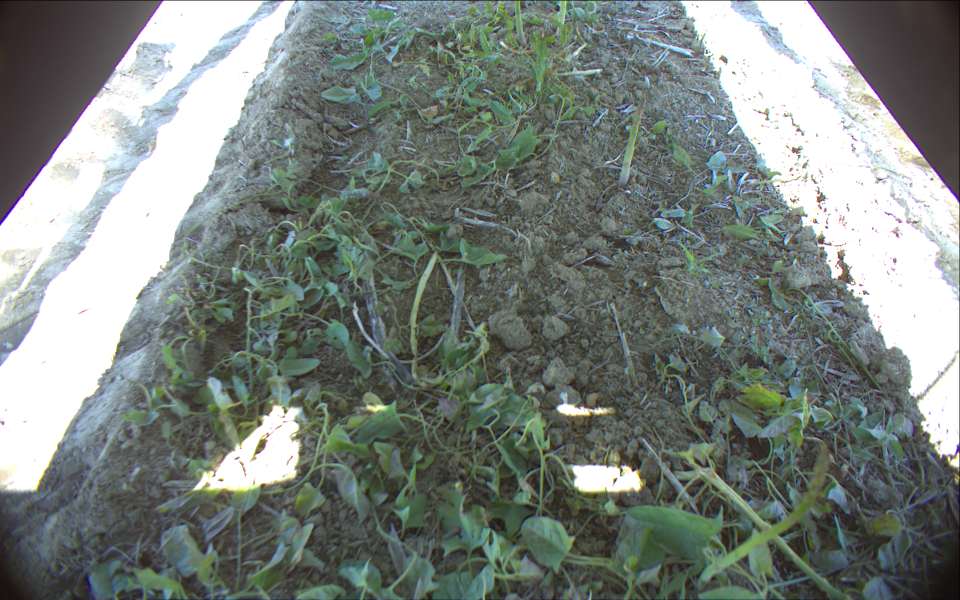aspa: (694, 440, 830, 585), (615, 92, 646, 194), (509, 1, 530, 48), (554, 1, 569, 42)
